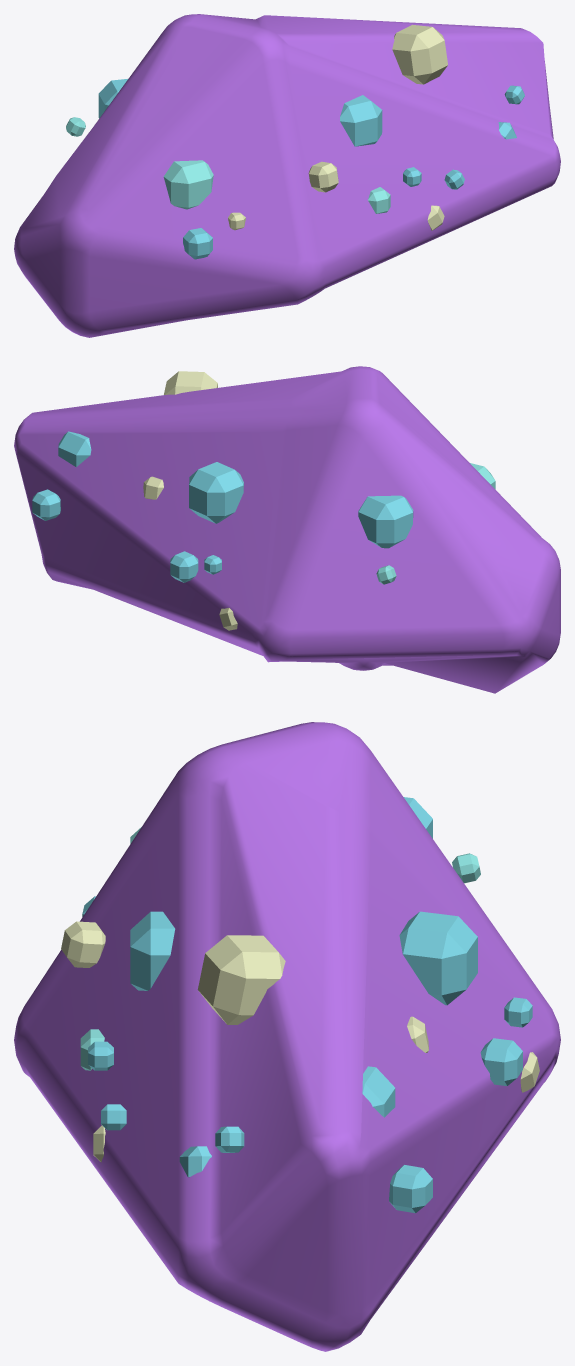
Rendered from Bush1.fbx.
The picture shows the model from 3 angles, top to bottom: view 1: azimuth 30°, elevation 25°; view 2: azimuth 150°, elevation 25°; view 3: azimuth 270°, elevation 25°; orthographic projection. The views are drawn at different scales.
Visible parts, largest first — view 1: group7_pasted__group6_pasted__pasted__group3_pasted__pasted_; view 2: group7_pasted__group6_pasted__pasted__group3_pasted__pasted_; view 3: group7_pasted__group6_pasted__pasted__group3_pasted__pasted_.
Boxes of the visible parts, x1,y1,x2,y2 form: group7_pasted__group6_pasted__pasted__group3_pasted__pasted_: (14, 14, 560, 337); group7_pasted__group6_pasted__pasted__group3_pasted__pasted_: (14, 366, 560, 693); group7_pasted__group6_pasted__pasted__group3_pasted__pasted_: (14, 722, 560, 1351).
Size of the model in its own units: 2.9 by 1.44 by 1.7.
